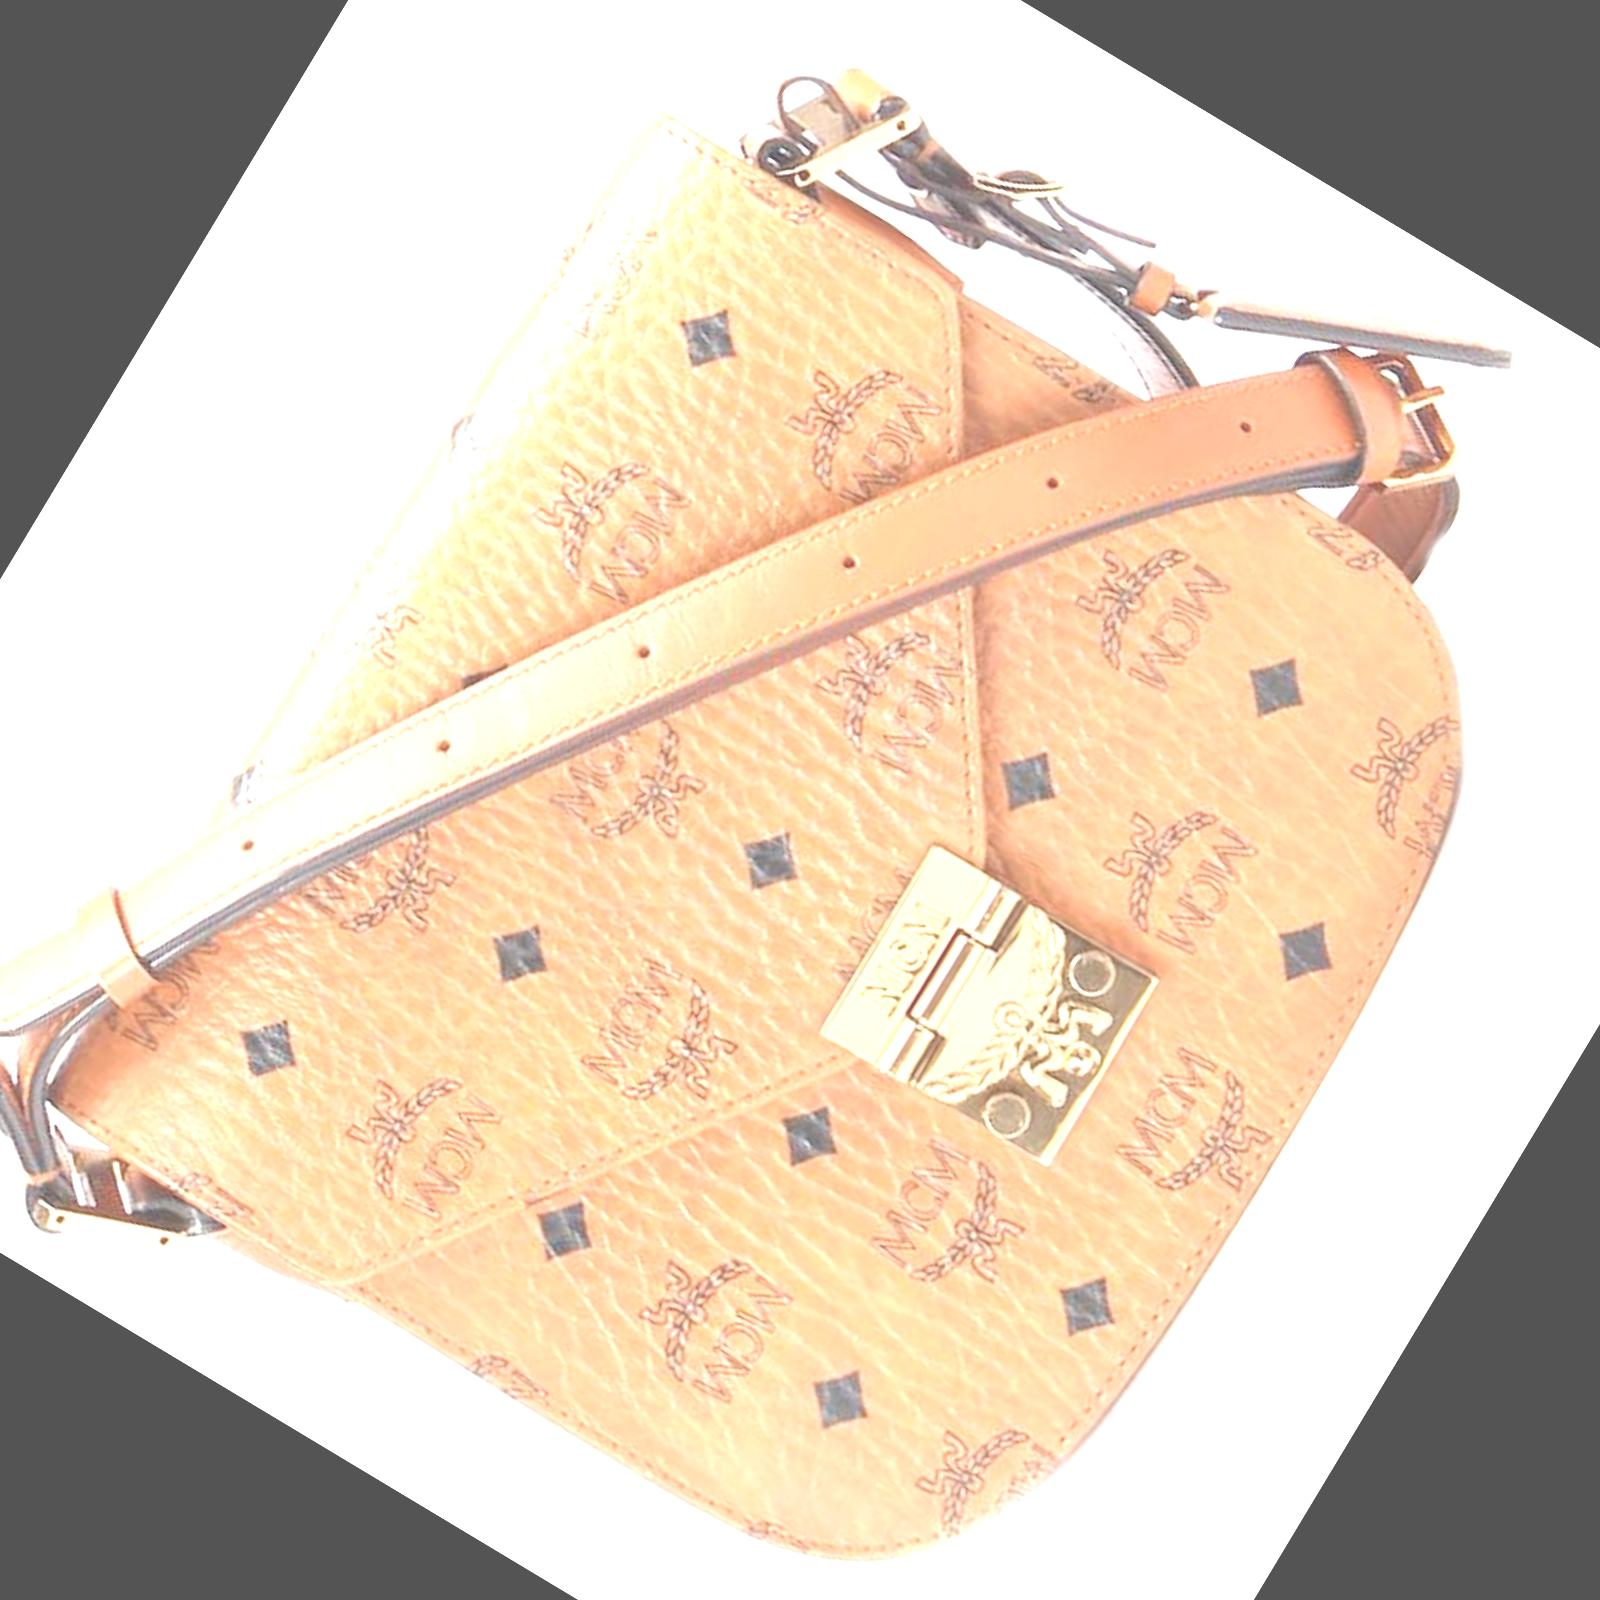MCM: (0, 15, 1600, 1600)
